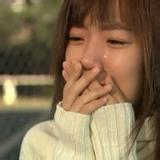face: (60, 1, 145, 115)
